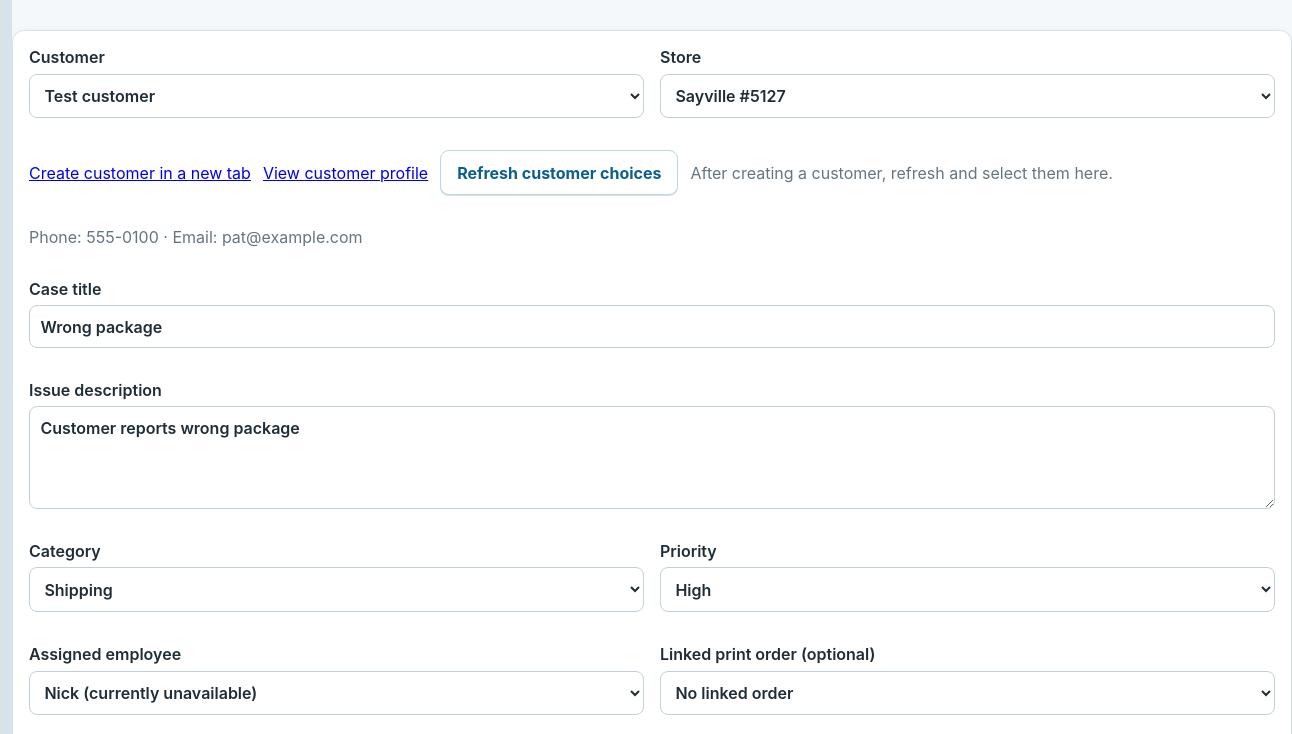
Test: requires review when a log refresh finds a concurrent change to a dirty field
The width and height of the screenshot is (1292, 734).
Replace the text in the field labelled "Case title" with "My draft title" at (652, 326), box [29,305,1275,348]
(page scrolled)
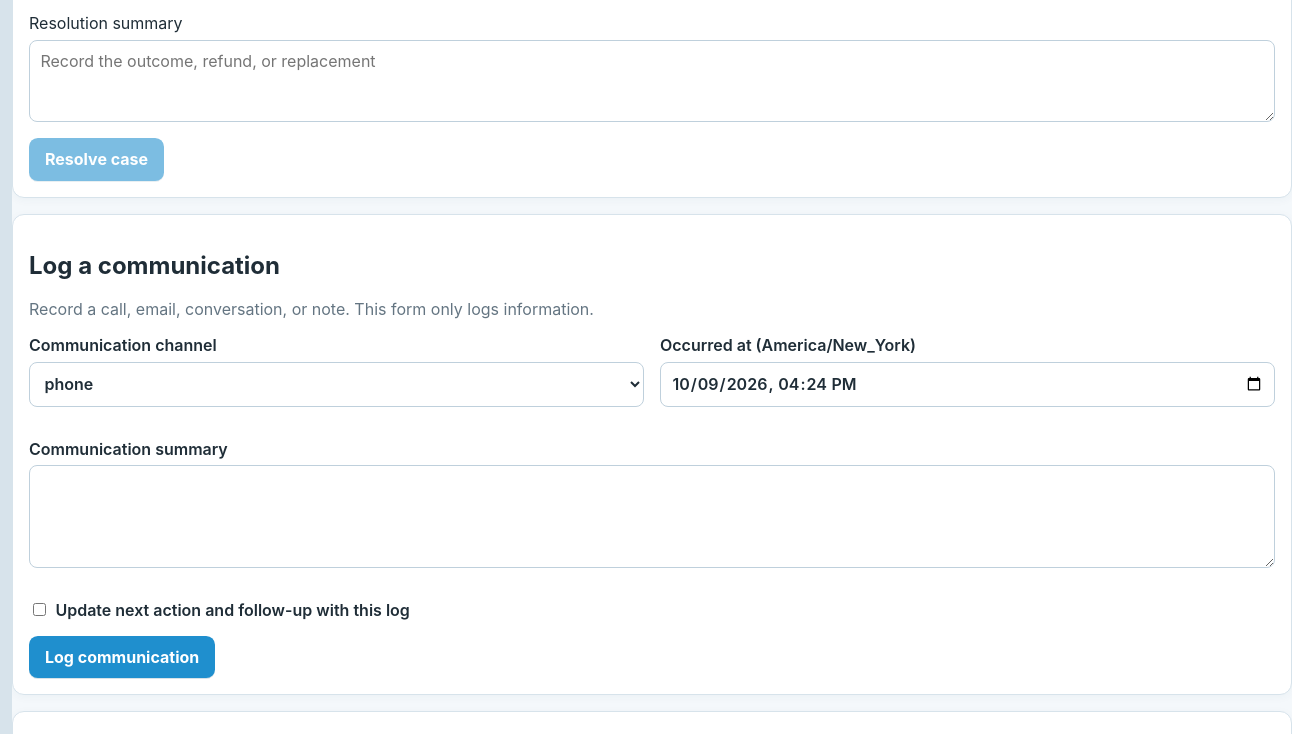
Type "Called customer" into the text box labelled "Communication summary" at (652, 516), box [29,465,1275,568]
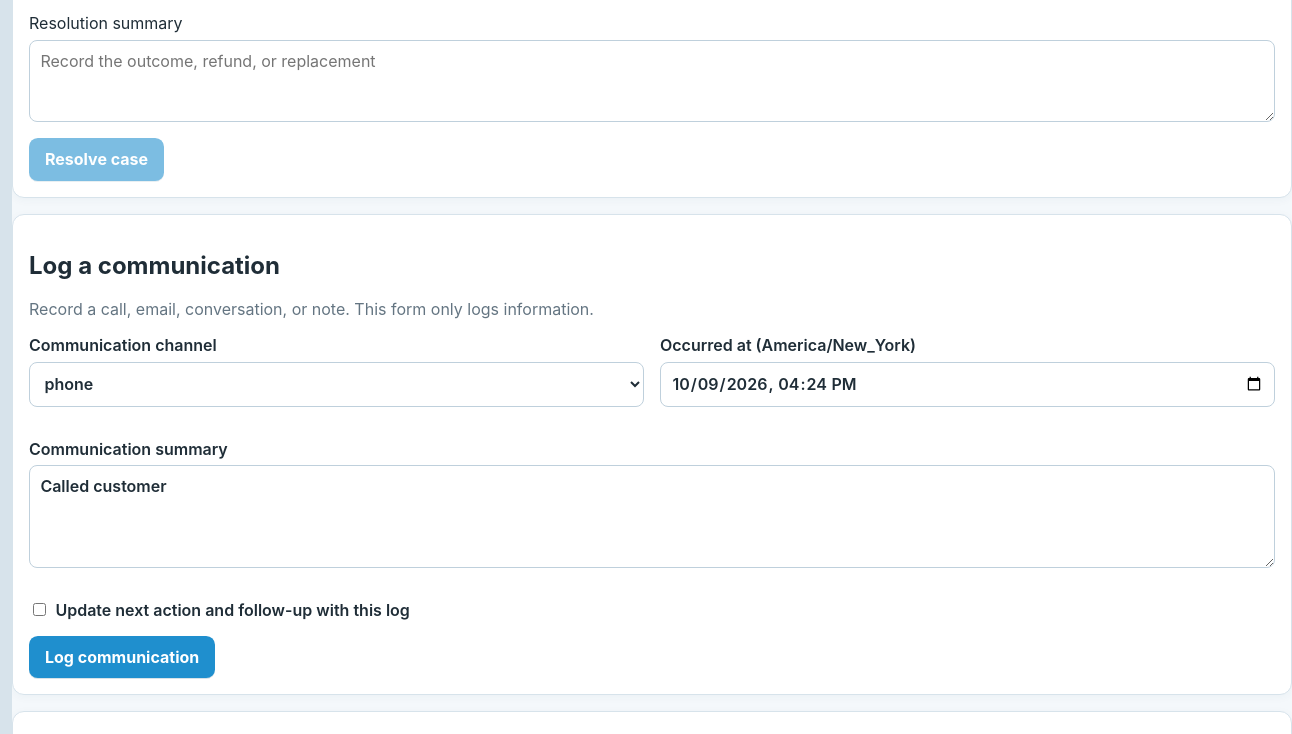
Click the button "Log communication" at (122, 657), box [29,636,215,678]
(page scrolled)
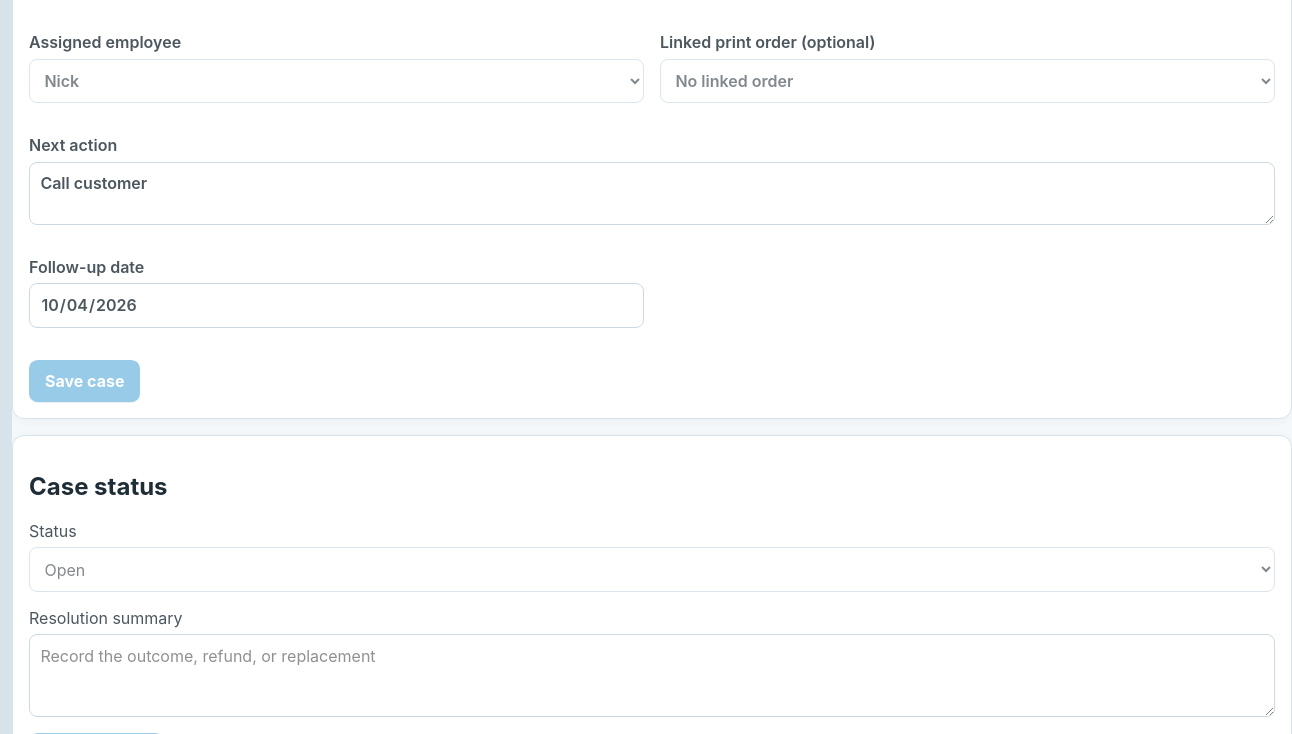
Now the button "Save case" is disabled, box [29,360,140,402]
